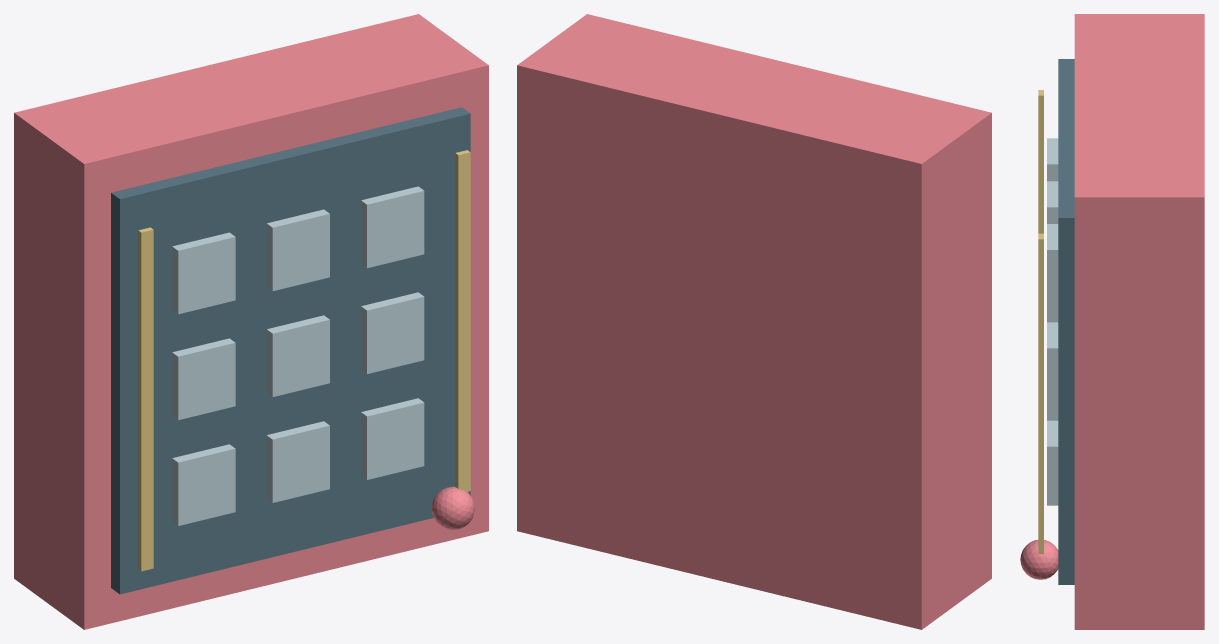
File: module_damaged.glb
The picture shows the model from 3 angles, left to right: view 1: azimuth 30°, elevation 25°; view 2: azimuth 150°, elevation 25°; view 3: azimuth 270°, elevation 25°; orthographic projection. The views are drawn at different scales.
Parts seen in each view (by area): view 1: Module chassis, Control substrate, Bus rail -0.235, Bus rail 0.235, Integrated circuit 0 1, Integrated circuit -1 0, Integrated circuit 0 -1, Integrated circuit -1 -1, Integrated circuit 1 -1, Integrated circuit 1 1, Integrated circuit -1 1, Integrated circuit 0 0 (+2 smaller); view 2: Module chassis; view 3: Module chassis, Control substrate, Bus rail 0.235, Service status LED, Integrated circuit 1 -1, Integrated circuit 1 0, Integrated circuit 1 1, Bus rail -0.235, Integrated circuit -1 1, Integrated circuit 0 1.
Boxes of the visible parts, x1=… form: Module chassis: x1=14, y1=14, x2=488, y2=629; Control substrate: x1=111, y1=107, x2=470, y2=594; Bus rail -0.235: x1=138, y1=227, x2=153, y2=571; Bus rail 0.235: x1=455, y1=150, x2=470, y2=491; Integrated circuit 0 1: x1=266, y1=209, x2=329, y2=291; Integrated circuit -1 0: x1=172, y1=338, x2=235, y2=420; Integrated circuit 0 -1: x1=266, y1=421, x2=329, y2=502; Integrated circuit -1 -1: x1=172, y1=444, x2=235, y2=525; Integrated circuit 1 -1: x1=361, y1=398, x2=424, y2=479; Integrated circuit 1 1: x1=361, y1=186, x2=424, y2=268; Integrated circuit -1 1: x1=172, y1=232, x2=235, y2=314; Integrated circuit 0 0: x1=266, y1=315, x2=329, y2=396; Module chassis: x1=517, y1=14, x2=991, y2=629; Module chassis: x1=1074, y1=14, x2=1204, y2=629; Control substrate: x1=1058, y1=59, x2=1074, y2=584; Bus rail 0.235: x1=1038, y1=233, x2=1043, y2=553; Service status LED: x1=1020, y1=540, x2=1058, y2=579; Integrated circuit 1 -1: x1=1047, y1=420, x2=1058, y2=505; Integrated circuit 1 0: x1=1047, y1=322, x2=1058, y2=407; Integrated circuit 1 1: x1=1047, y1=224, x2=1058, y2=308; Bus rail -0.235: x1=1038, y1=90, x2=1043, y2=233; Integrated circuit -1 1: x1=1047, y1=138, x2=1058, y2=181; Integrated circuit 0 1: x1=1047, y1=181, x2=1058, y2=223.
Bounding box in the file's own units: 0.6 × 0.66 × 0.255.
